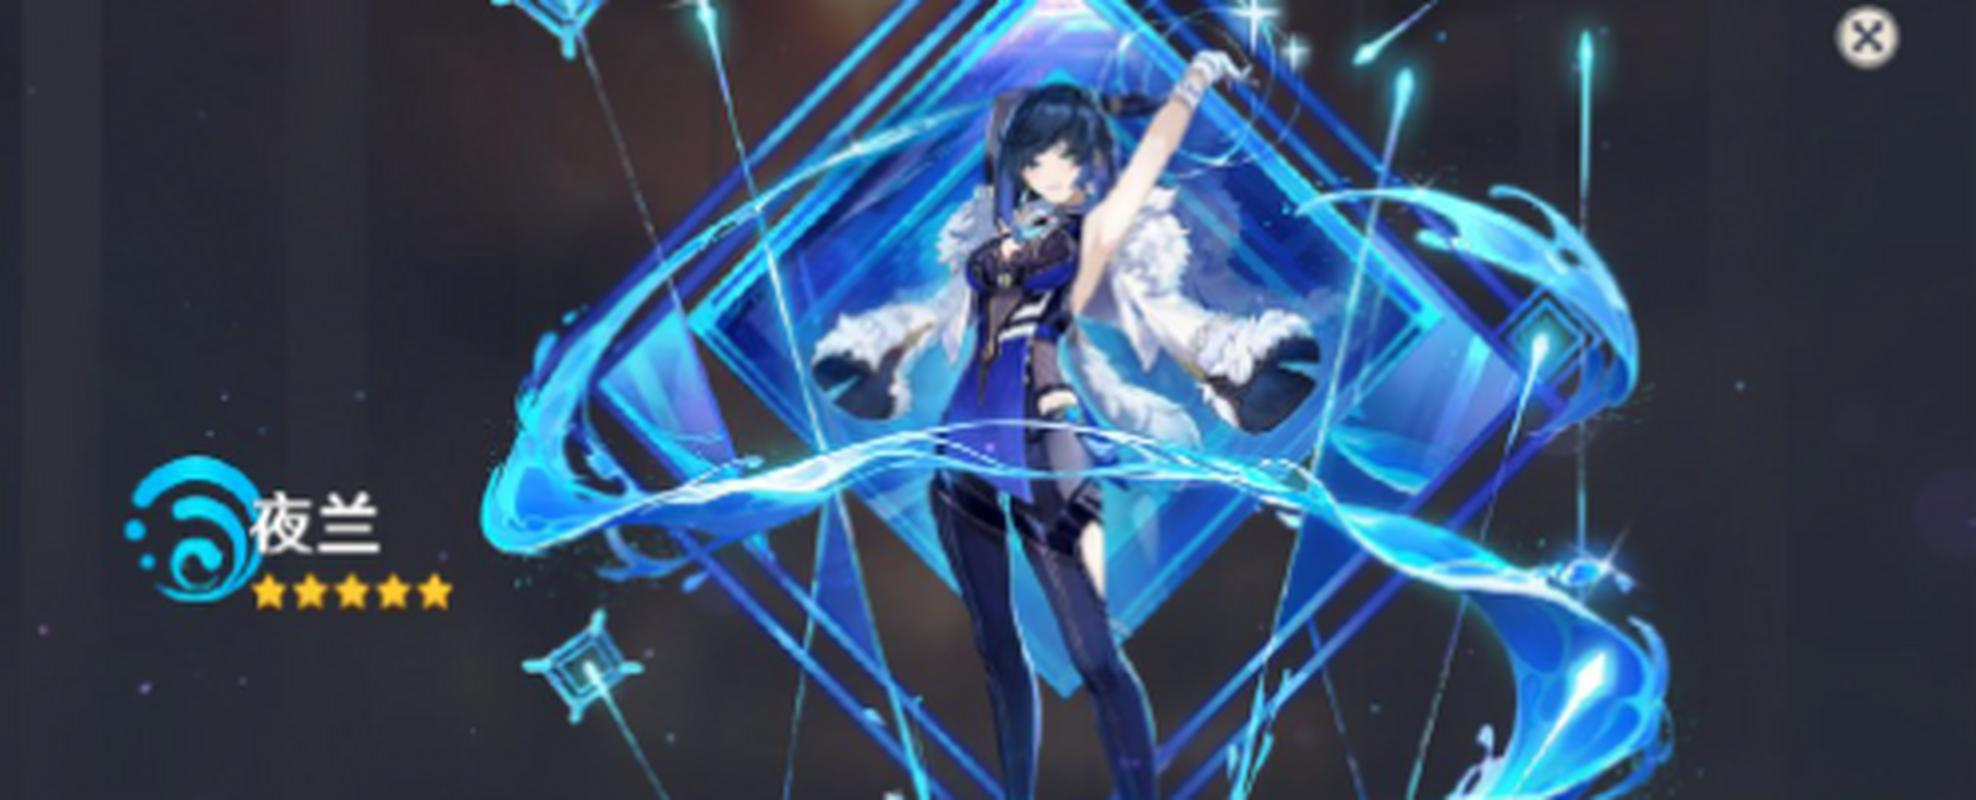夜兰: (928, 37, 1267, 800)
